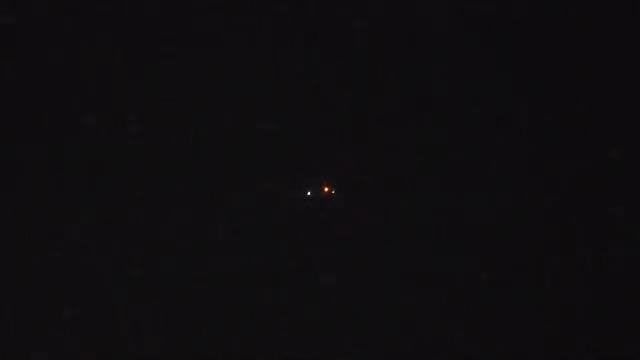Plane: (290, 176, 357, 206)
